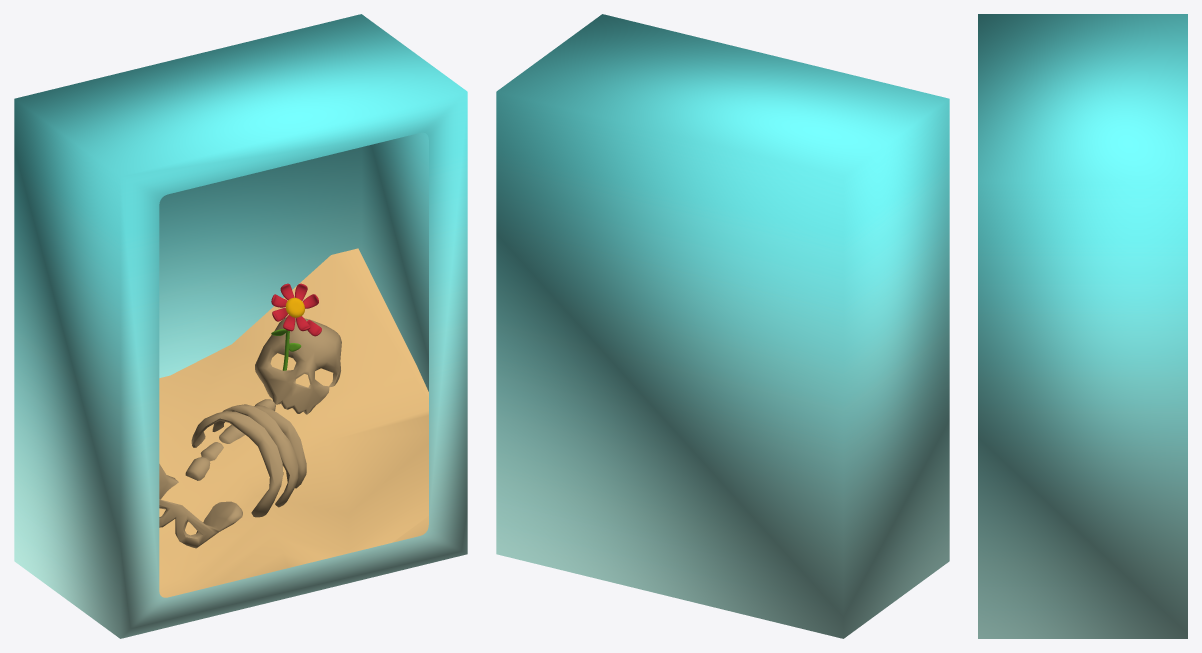
Rendered from 17_rebirth.glb.
3 views of the same model, side by side, from view 1: azimuth 30°, elevation 25°; view 2: azimuth 150°, elevation 25°; view 3: azimuth 270°, elevation 25° (orthographic).
Visible parts, largest first — view 1: 17_Rebirth_bg, 17_Rebirth; view 2: 17_Rebirth_bg; view 3: 17_Rebirth_bg.
Boxes of the visible parts, <box> form: 17_Rebirth_bg: <box>14,14,467,638</box>; 17_Rebirth: <box>159,248,428,597</box>; 17_Rebirth_bg: <box>496,14,949,638</box>; 17_Rebirth_bg: <box>978,14,1187,638</box>.
Bounding box in the file's own units: 2.76 × 3.51 × 1.46.
Materials: 1 (1 with a texture image).
